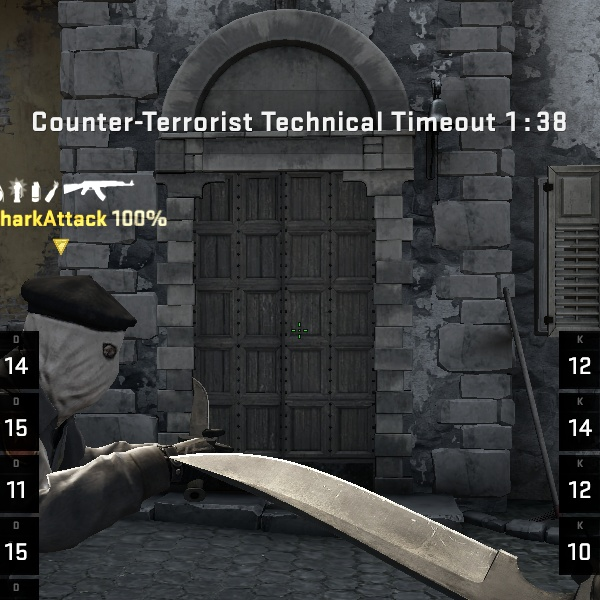ct_head: (1, 263, 143, 410)
